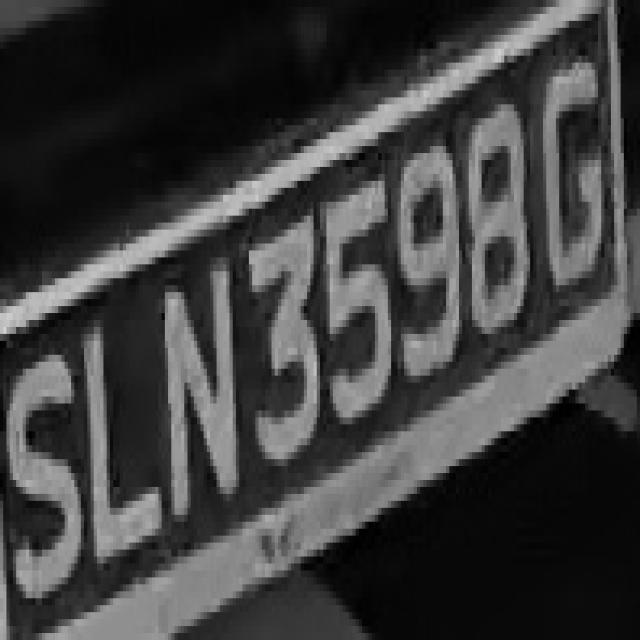3: (236, 188, 323, 473)
5: (320, 167, 398, 459)
8: (449, 70, 537, 362)
9: (382, 118, 466, 383)
G: (537, 42, 614, 299)
L: (74, 292, 162, 584)
N: (148, 243, 245, 542)
S: (0, 334, 87, 626)
